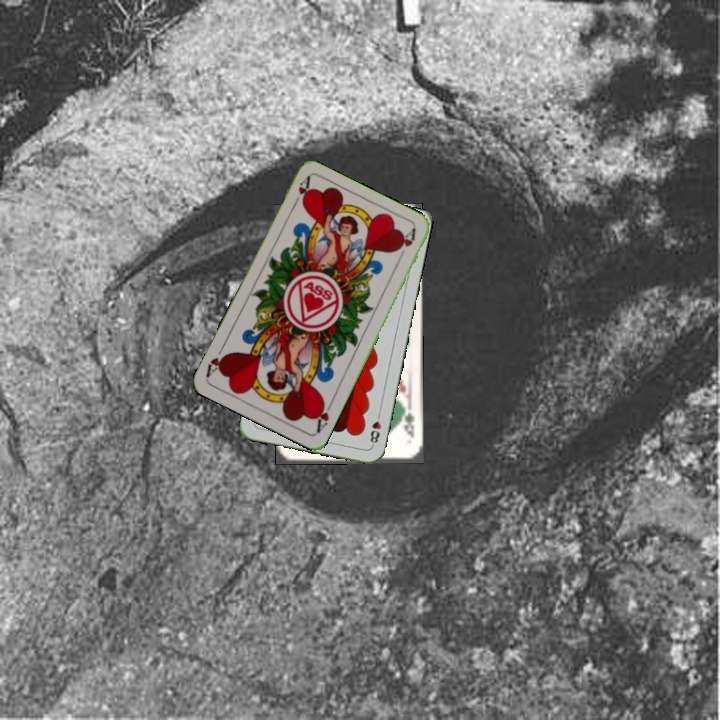GK: (399, 407, 416, 441)
H8: (366, 408, 384, 449)
HA: (311, 396, 336, 435), (288, 173, 313, 212)
